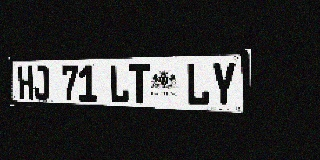1: (78, 65, 97, 102)
7: (61, 65, 79, 101)
H: (18, 66, 34, 100)
J: (33, 66, 49, 100)
L: (186, 62, 210, 106), (109, 64, 129, 103)
T: (129, 64, 150, 104)
Y: (211, 62, 236, 107)
